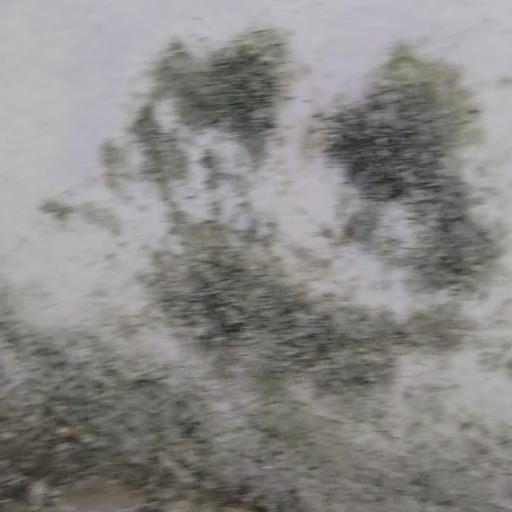algae: (39, 43, 511, 512)
